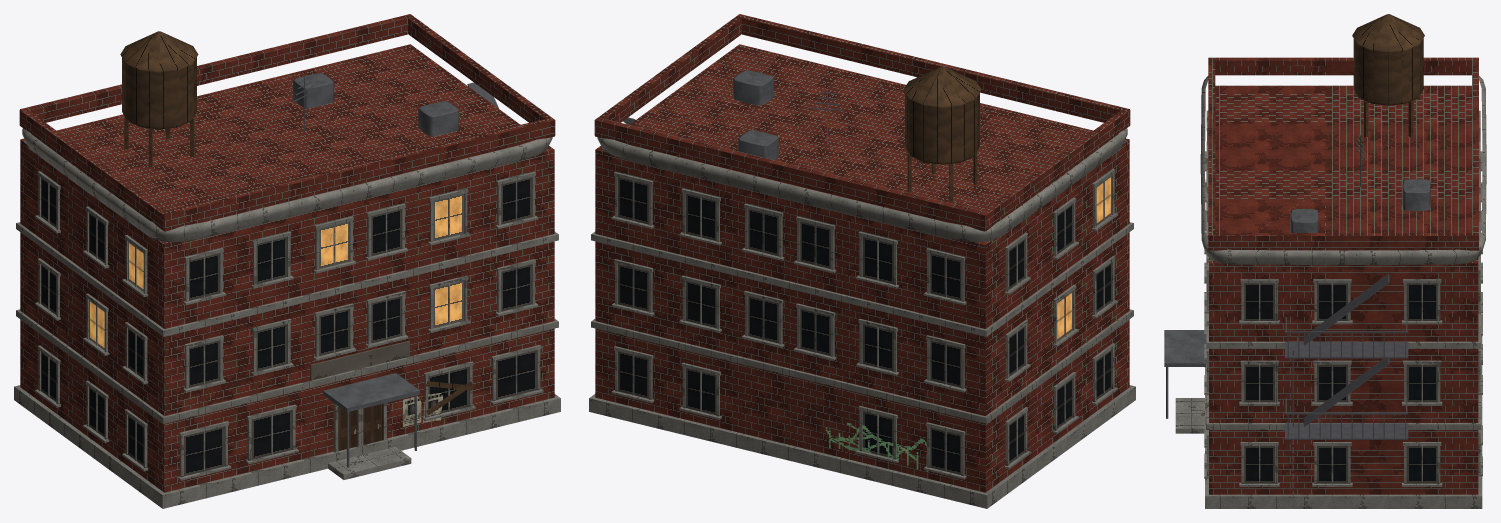
The model's file is town_apartments.glb.
3 renders of one model, left to right at view 1: azimuth 30°, elevation 25°; view 2: azimuth 150°, elevation 25°; view 3: azimuth 270°, elevation 25°, orthographic. The views are drawn at different scales.
Visible parts, largest first — view 1: shell-col, detail; view 2: shell-col, detail; view 3: shell-col, detail.
Boxes of the visible parts, x1,y1,x2,y2 form: shell-col: [14, 44, 560, 508]; detail: [16, 14, 558, 480]; shell-col: [589, 44, 1135, 508]; detail: [591, 14, 1133, 479]; shell-col: [1175, 85, 1482, 508]; detail: [1164, 14, 1486, 507].
Size of what is drawn, in the model's own units: 16.6 by 14.05 by 11.5.
12 materials, 12 textured.
